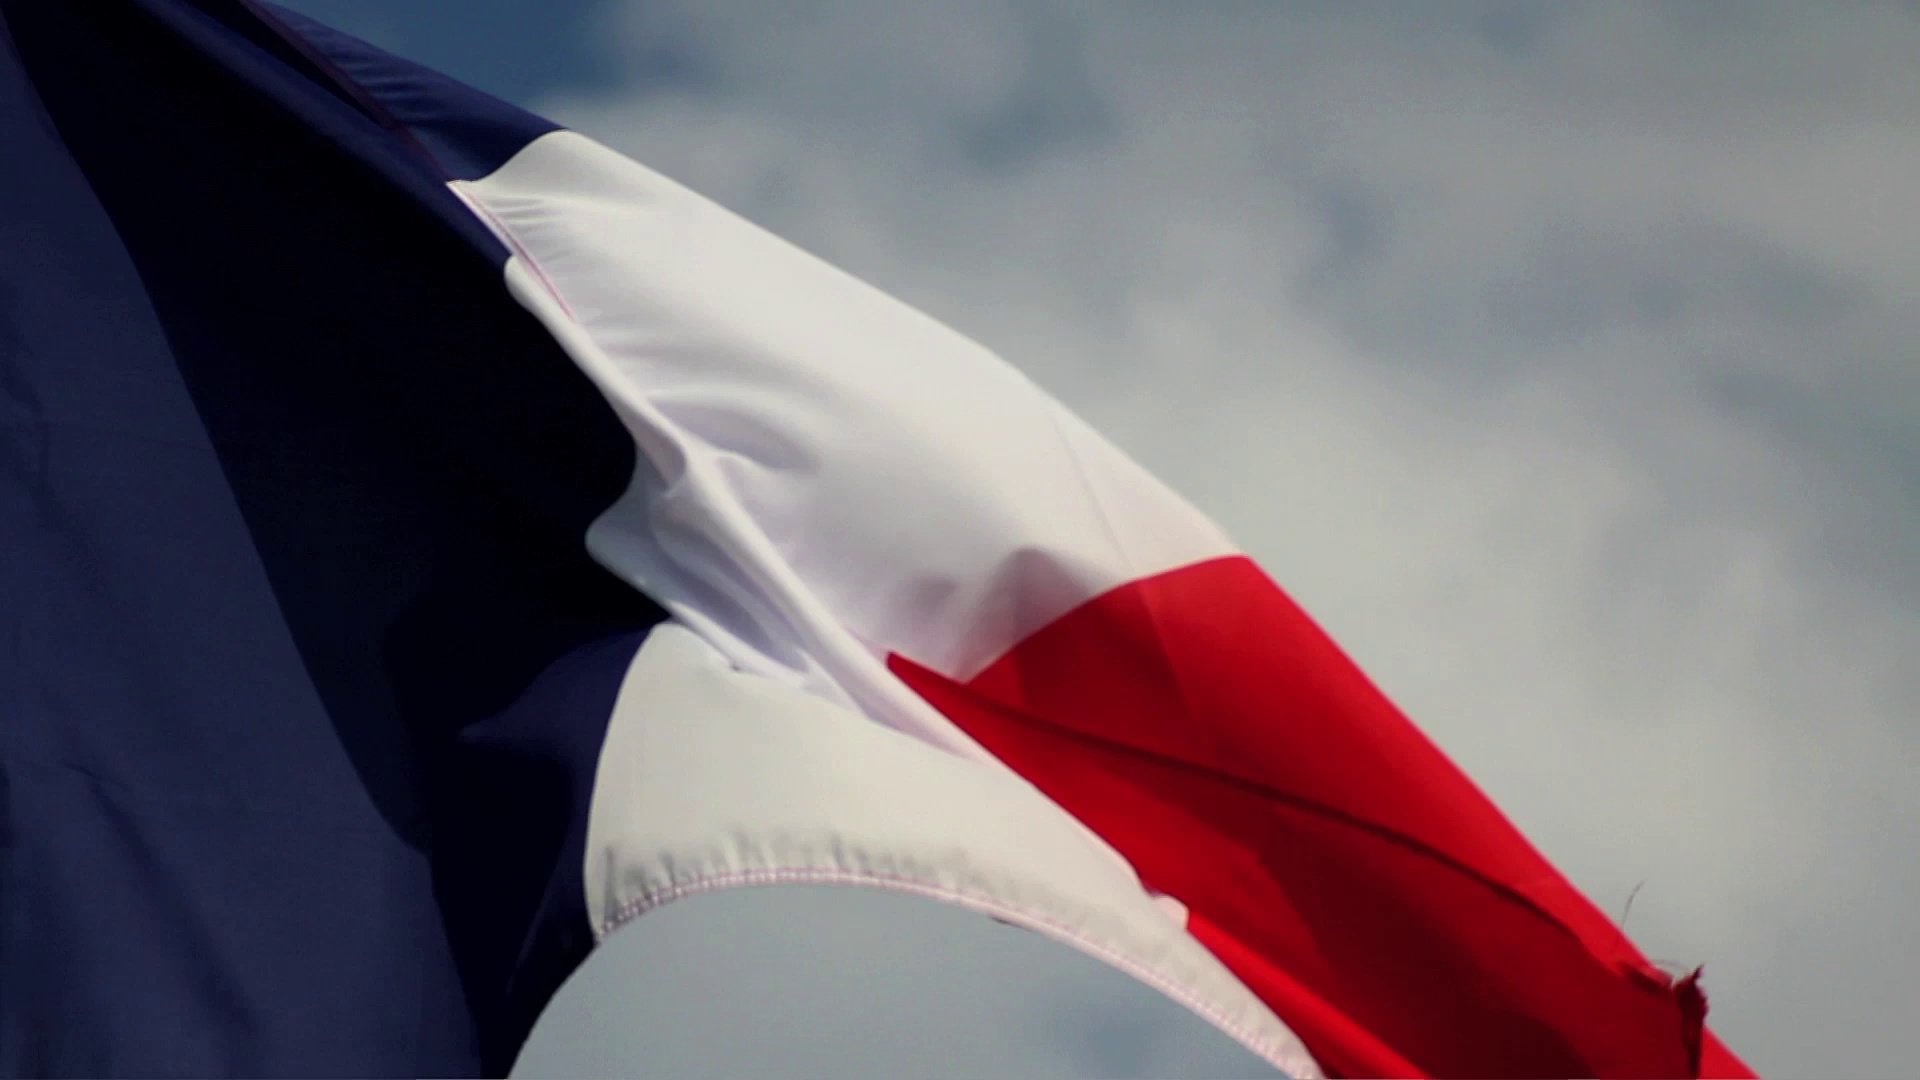French Flag: (1, 1, 1750, 1080)
